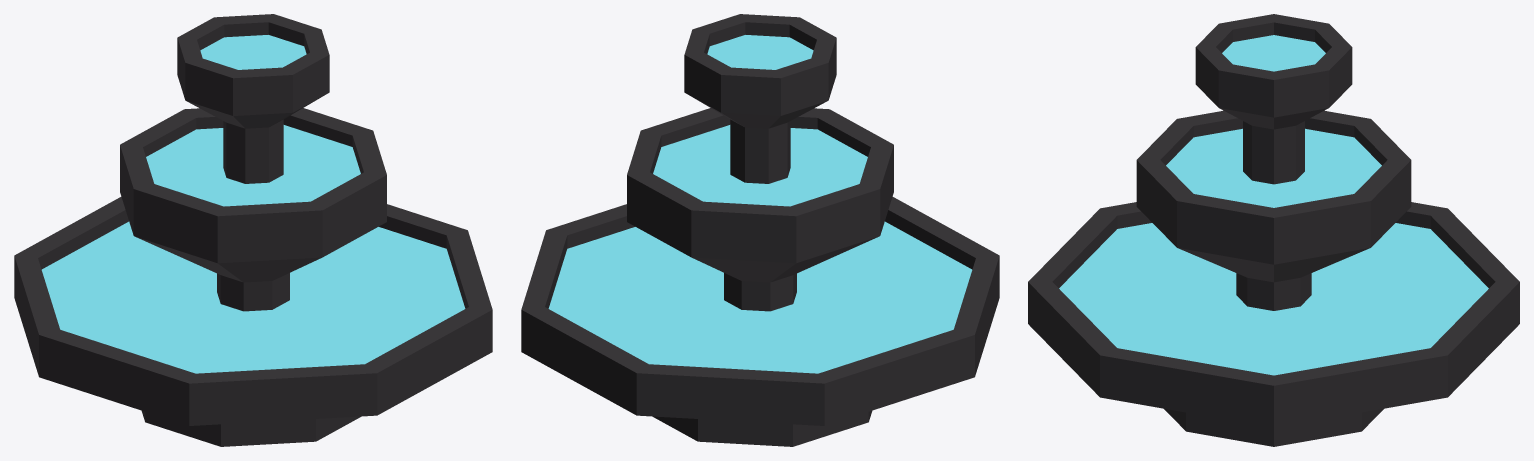
Rendered from fountain.glb.
3 views of the same model, side by side, from view 1: azimuth 30°, elevation 25°; view 2: azimuth 150°, elevation 25°; view 3: azimuth 270°, elevation 25° (orthographic).
Visible parts, largest first — view 1: Circle, Circle.001; view 2: Circle, Circle.001; view 3: Circle, Circle.001.
Part boxes in pixels (box(x1,y1,x2,y2)): Circle: box(14, 14, 492, 446); Circle.001: box(41, 35, 465, 373); Circle: box(521, 14, 999, 446); Circle.001: box(548, 35, 972, 373); Circle: box(1028, 14, 1519, 446); Circle.001: box(1059, 35, 1488, 375).
Size of the model in its own units: 3.96 by 3.09 by 3.96.
